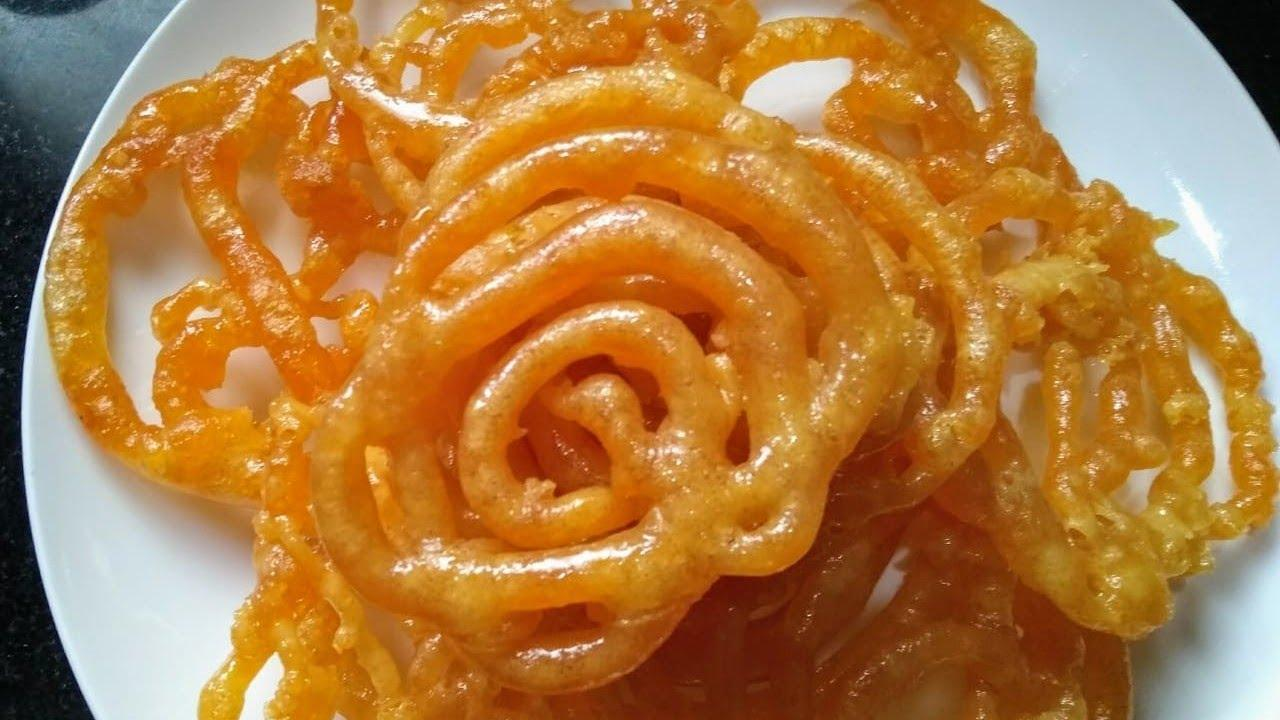jalebi: (58, 0, 1276, 720)
